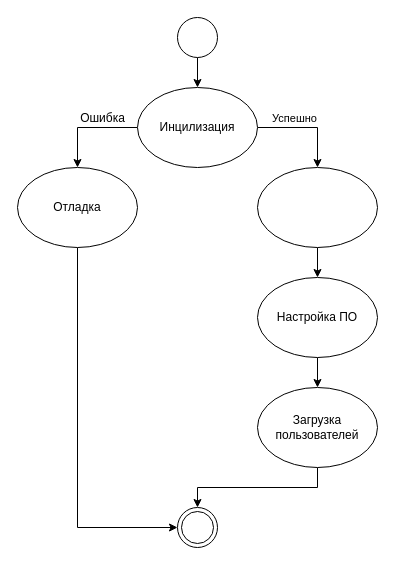
Some shapes in this 395 by 565 pixel diagram are drawn without their labels. The shapes that lost their labels are listed below. From the top down, each one's centre as x and y in pixels, then its label:
[197,37]: Старт
[317,207]: Загрузка ПО
